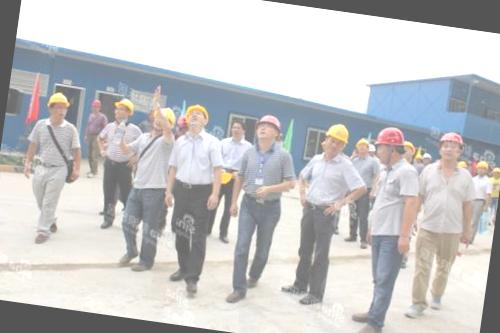no_helmet: (225, 118, 248, 140)
